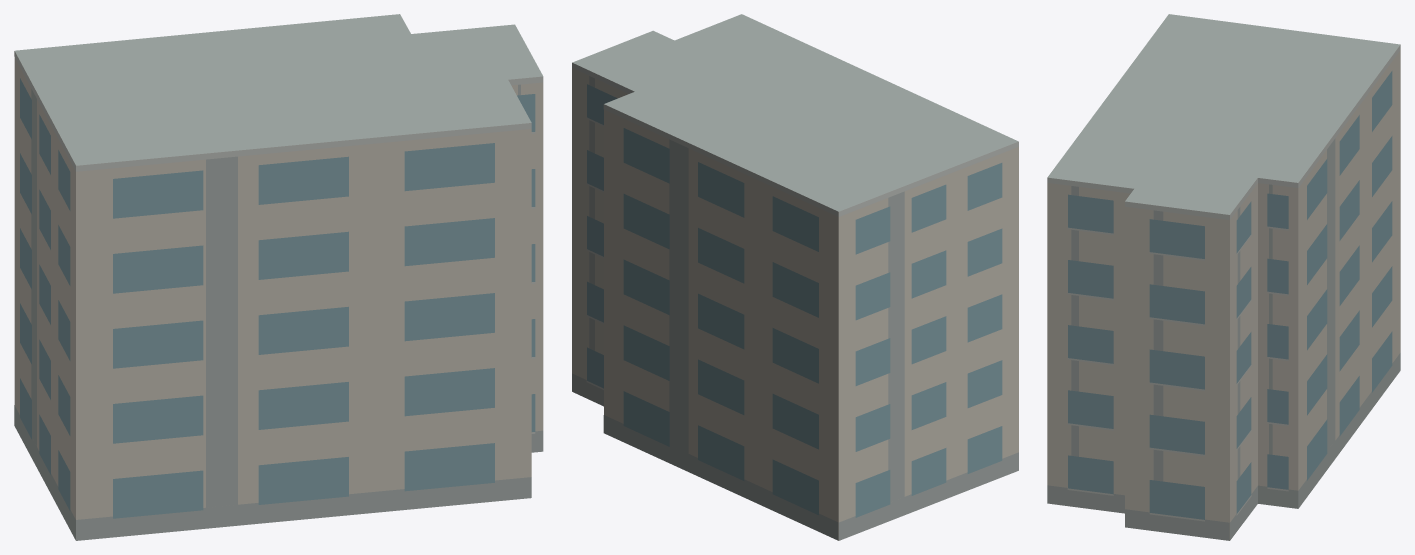
The model's file is survey-upis-32635769.glb.
3 renders of one model, left to right at view 1: azimuth 30°, elevation 25°; view 2: azimuth 150°, elevation 25°; view 3: azimuth 270°, elevation 25°, orthographic. The views are drawn at different scales.
Visible parts, largest first — view 1: survey-upis-32635769.tmp; view 2: survey-upis-32635769.tmp; view 3: survey-upis-32635769.tmp.
Part boxes in pixels (x1=…): survey-upis-32635769.tmp: x1=14, y1=14, x2=543, y2=540; survey-upis-32635769.tmp: x1=572, y1=14, x2=1018, y2=540; survey-upis-32635769.tmp: x1=1047, y1=14, x2=1400, y2=540.
Size of the model in its own units: 20.18 by 15.25 by 15.
